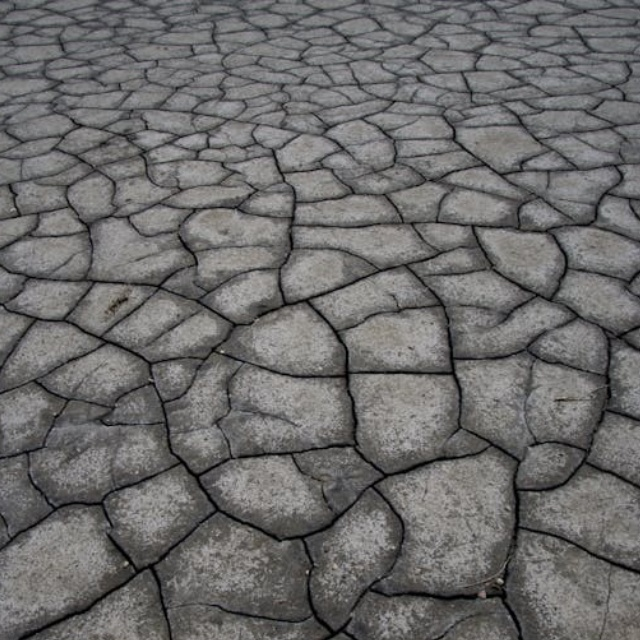网状裂隙: (0, 0, 640, 564), (0, 51, 640, 570), (86, 76, 640, 640), (0, 103, 392, 640), (0, 56, 261, 498)
